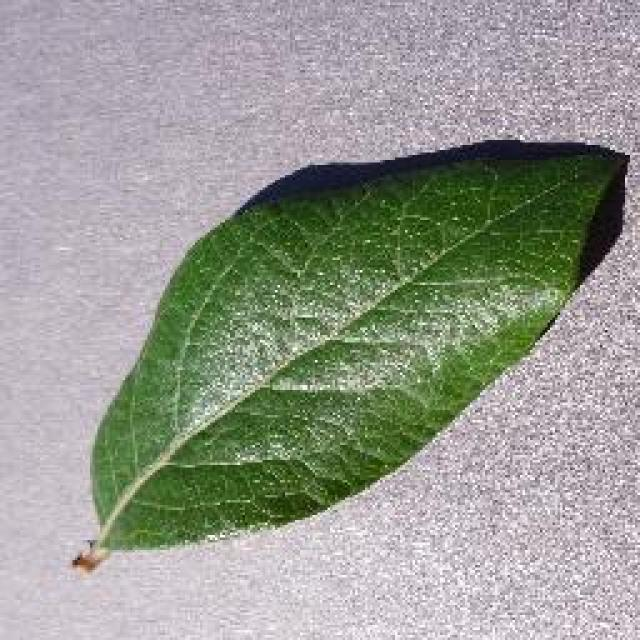Blu_healthy: (171, 150, 520, 489)
